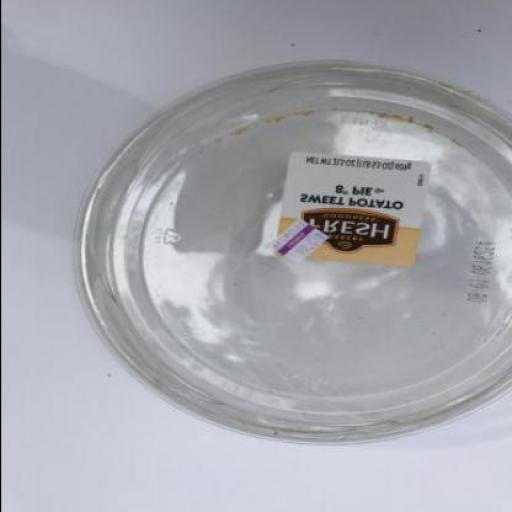plastic: (71, 60, 511, 448)
